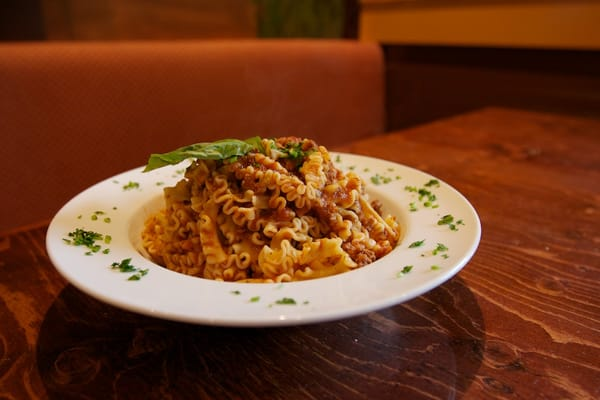curry: (1, 31, 585, 393)
